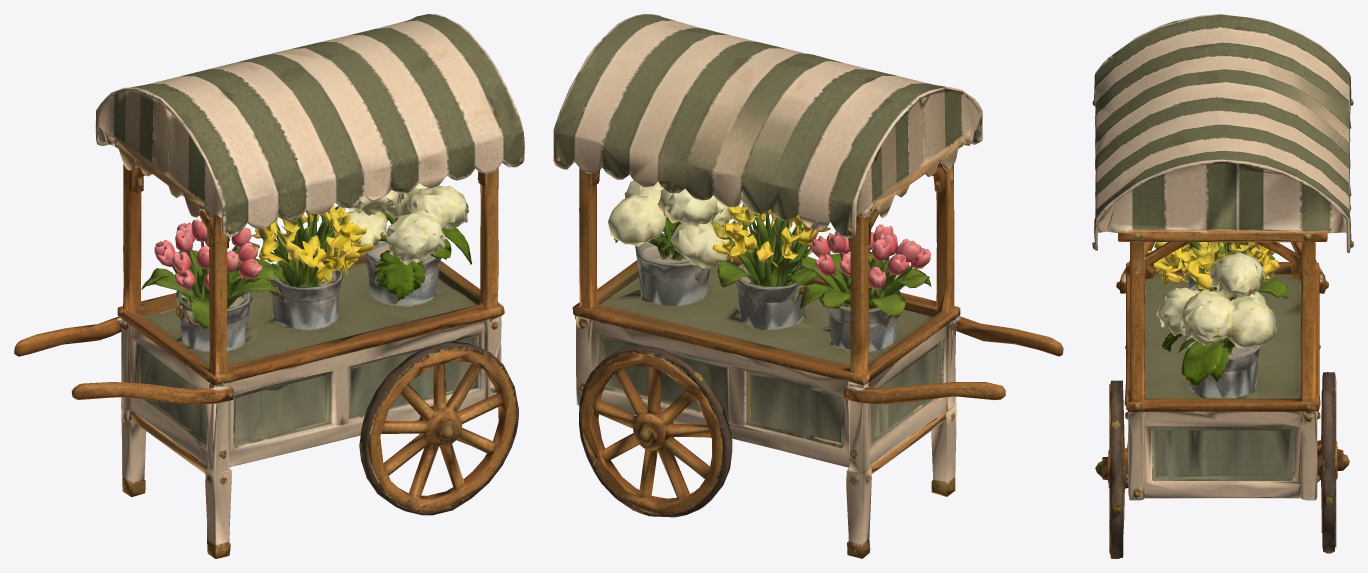
The model's file is flower-cart-mobile-v1.glb.
3 renders of one model, left to right at view 1: azimuth 30°, elevation 25°; view 2: azimuth 150°, elevation 25°; view 3: azimuth 270°, elevation 25°, orthographic.
Visible parts, largest first — view 1: flower-cart; view 2: flower-cart; view 3: flower-cart.
Part boxes in pixels (bbox=[...]): flower-cart: bbox=[14, 14, 524, 558]; flower-cart: bbox=[553, 14, 1063, 558]; flower-cart: bbox=[1092, 14, 1353, 558].
Size of the model in its own units: 0.9795 by 0.9548 by 0.5273.
1 material, 1 textured.
